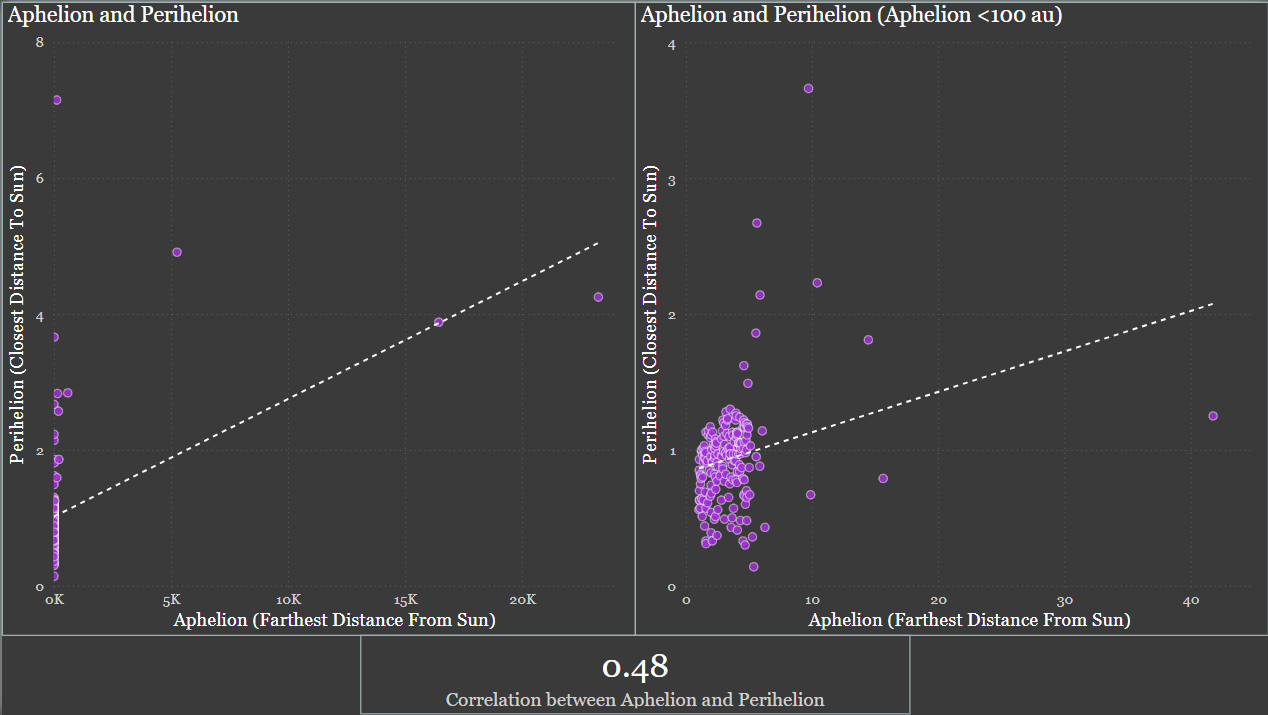

The page's visual inventory and layout, read from the dashboard file:
{"tool":"powerbi","page":{"name":"Aphelion and Perihelion","canvas":[1280,720],"ordinal":2},"visuals":[{"type":"scatterChart","fields":{"X":["NEOs_cleaned.Aphelion"],"Y":["NEOs_cleaned.Perihelion"]},"box":[0,0,640,640],"z":0},{"type":"scatterChart","title":"Aphelion and Perihelion (Aphelion <100 au)","fields":{"X":["NEOs_cleaned.Aphelion"],"Y":["NEOs_cleaned.Perihelion"]},"box":[640,0,640,640],"z":1000},{"type":"card","fields":{"Values":["NEOs_cleaned.Sum of Aphelion and Sum of Perihelion correlation for Designation"]},"box":[361.7,640,555,80],"z":2000}]}

Visuals, with their boxes in screenshot pixels (x1, y1, x2, y2), scaled from the page's 1280x720 canvas onto the 1268x715 screenshot:
scatterChart - NEOs_cleaned.Aphelion x NEOs_cleaned.Perihelion: [x1=0, y1=0, x2=634, y2=636]
"Aphelion and Perihelion (Aphelion <100 au)" scatterChart: [x1=634, y1=0, x2=1267, y2=636]
card - NEOs_cleaned.Sum of Aphelion and Sum of Perihelion correlation for Designation: [x1=358, y1=636, x2=908, y2=714]
